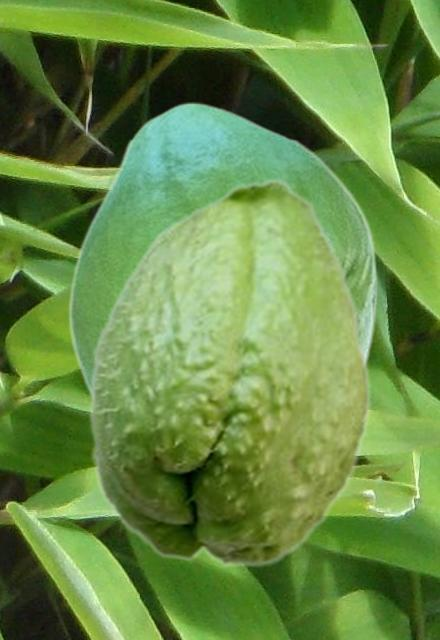sayote: (88, 176, 372, 568), (67, 102, 377, 394)
